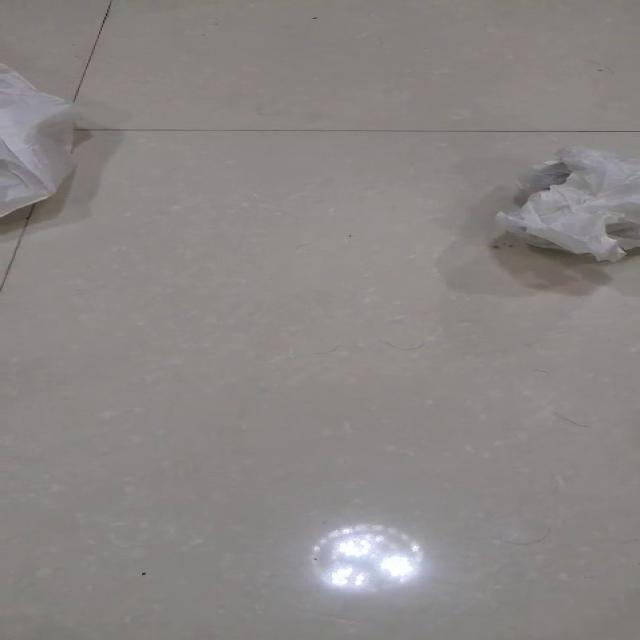plastic: (492, 145, 638, 262), (0, 61, 80, 218)
